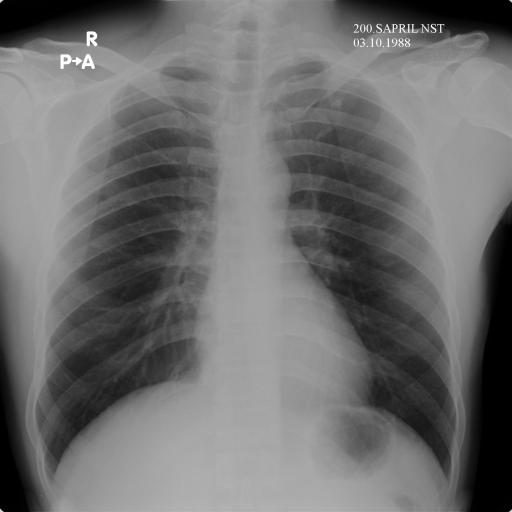normal: (28, 40, 463, 486)
